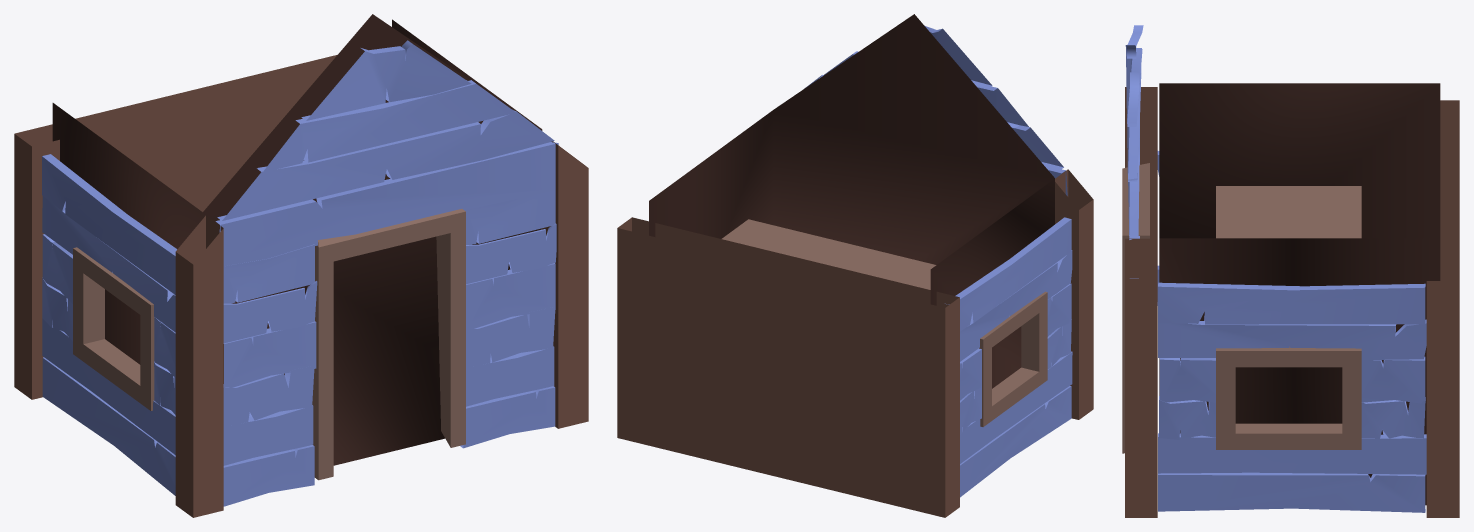
The model's file is Building_Door_003.glb.
3 renders of one model, left to right at view 1: azimuth 30°, elevation 25°; view 2: azimuth 150°, elevation 25°; view 3: azimuth 270°, elevation 25°, orthographic. The views are drawn at different scales.
Visible parts, largest first — view 1: Building_Door_003; view 2: Building_Door_003; view 3: Building_Door_003.
Part boxes in pixels (box(x1,y1,x2,y2)): Building_Door_003: box(14, 14, 588, 517); Building_Door_003: box(617, 14, 1093, 517); Building_Door_003: box(1122, 25, 1459, 517).
Bounding box in the file's own units: 7.12 × 7.61 × 5.62.
1 material, 1 textured.
